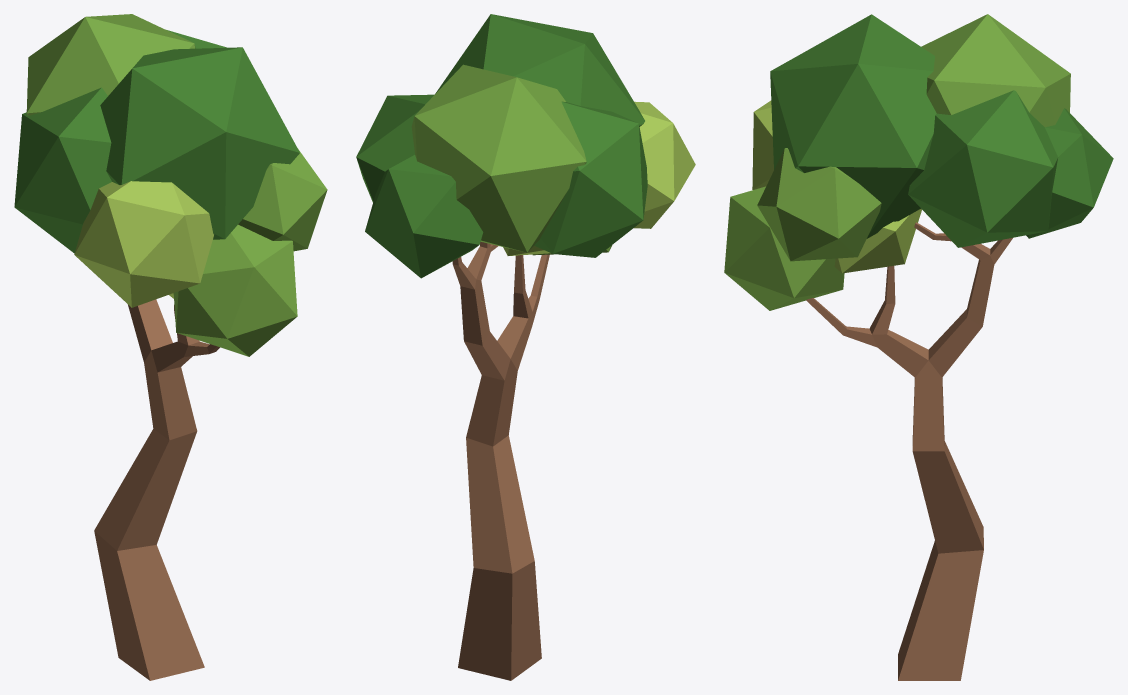
The model's file is OakTree4.fbx.
The picture shows the model from 3 angles, left to right: view 1: azimuth 30°, elevation 25°; view 2: azimuth 150°, elevation 25°; view 3: azimuth 270°, elevation 25°; orthographic projection. The views are drawn at different scales.
Parts seen in each view (by area): view 1: Leaves, Trunk; view 2: Leaves, Trunk; view 3: Leaves, Trunk.
Boxes of the visible parts, x1,y1,x2,y2 form: Leaves: [14, 14, 327, 356]; Trunk: [94, 299, 219, 680]; Leaves: [356, 14, 695, 278]; Trunk: [452, 242, 549, 680]; Leaves: [724, 14, 1113, 310]; Trunk: [806, 222, 1012, 680].
Bounding box in the file's own units: 946 × 2217 × 1240.
